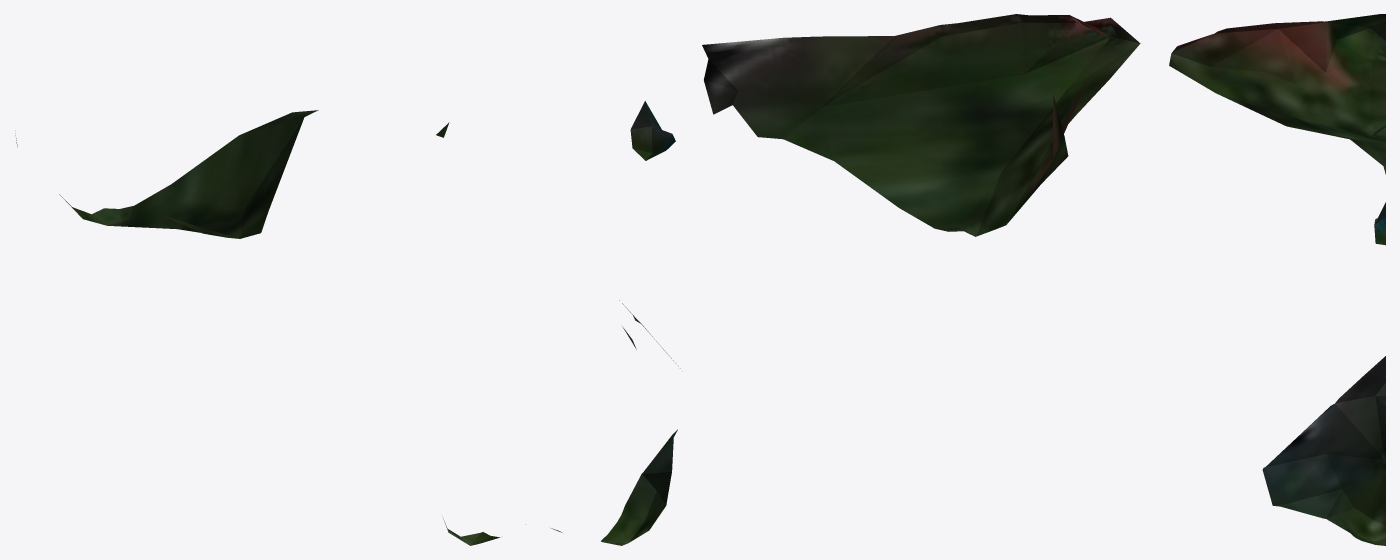
3 views of the same model, side by side, from view 1: azimuth 30°, elevation 25°; view 2: azimuth 150°, elevation 25°; view 3: azimuth 270°, elevation 25° (orthographic). The views are drawn at different scales.
Bounding box in the file's own units: 0.9134 × 1 × 0.516.
Materials: 1 (1 with a texture image).
